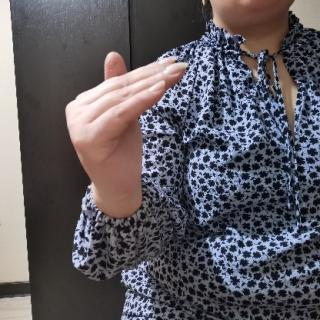KHAA: (58, 45, 195, 205)
